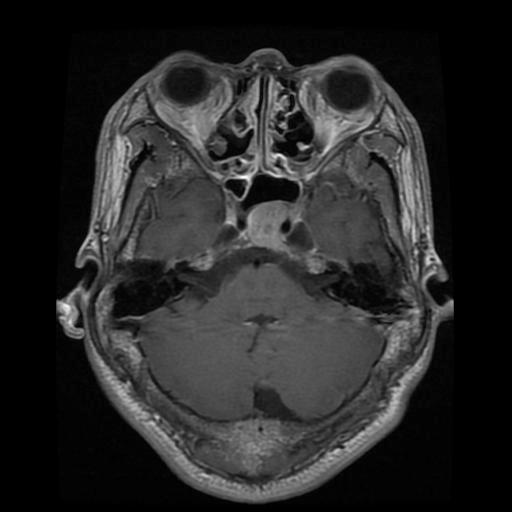Tumour-Pituitary: (221, 200, 309, 259)
